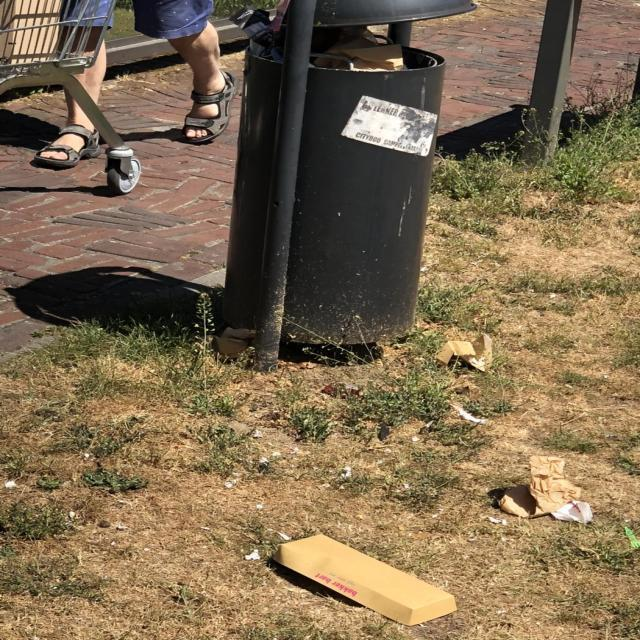Paper: (270, 532, 460, 628), (496, 454, 584, 520)
